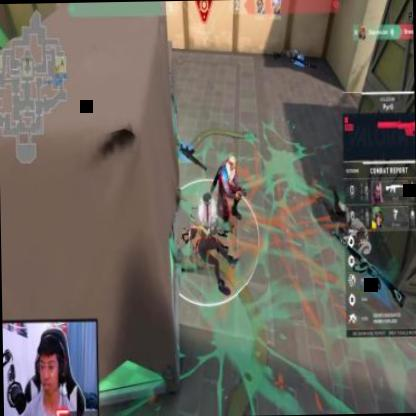enemy: (210, 155, 246, 223)
enemy_head: (227, 155, 235, 171)
